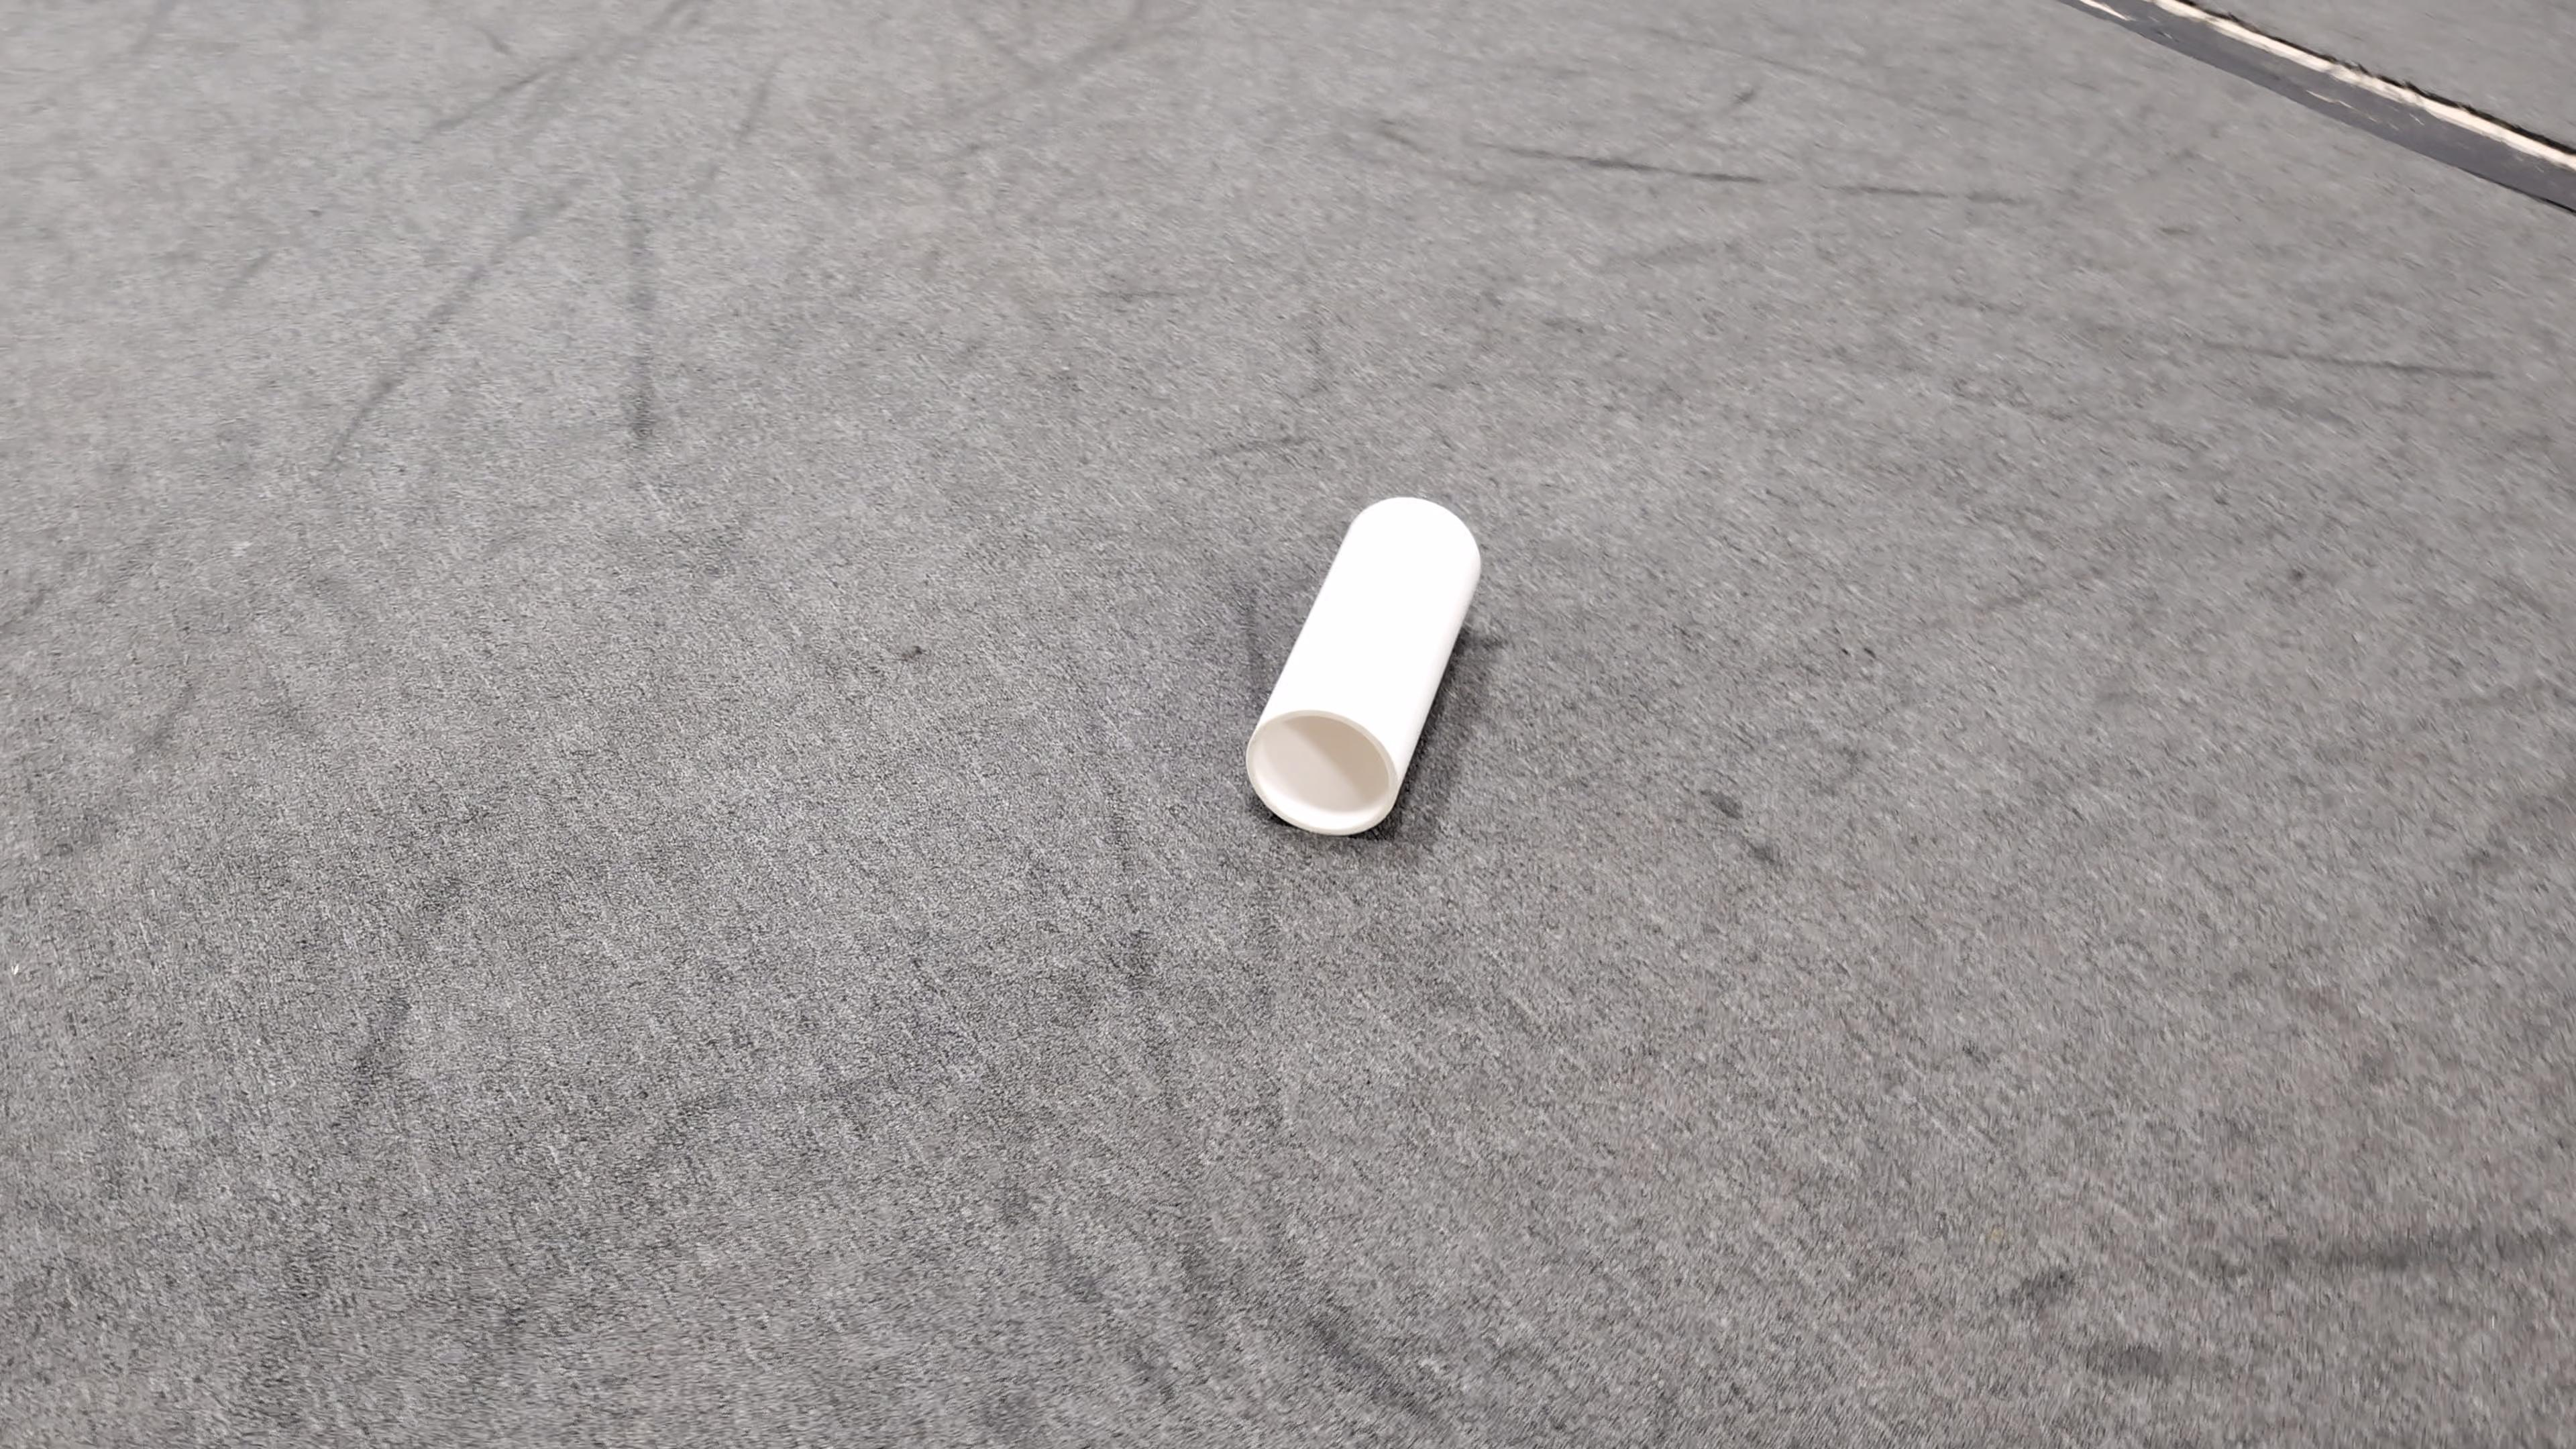coral: (1242, 492, 1486, 833)
